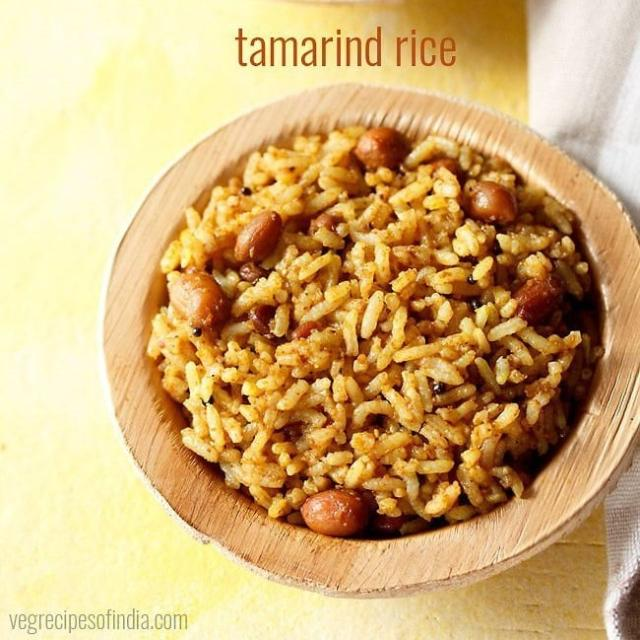puliyogare: (128, 105, 640, 552)
